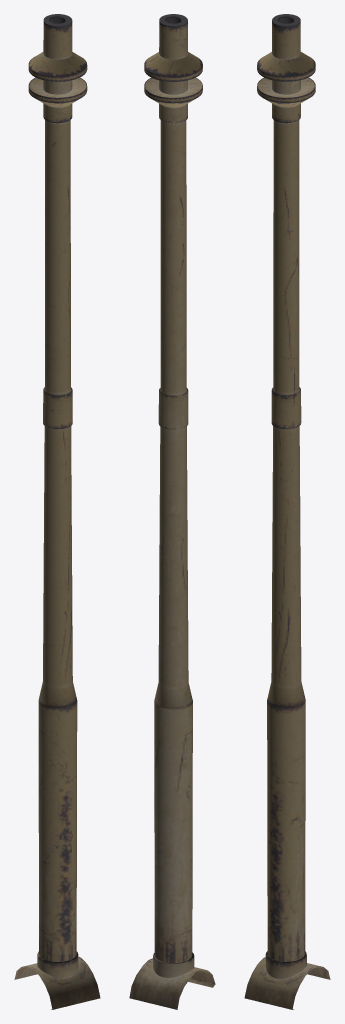
Rendered from Gun_02.glb.
3 renders of one model, left to right at view 1: azimuth 30°, elevation 25°; view 2: azimuth 150°, elevation 25°; view 3: azimuth 330°, elevation 25°, orthographic.
Parts seen in each view (by area): view 1: set_0_group_0; view 2: set_0_group_0; view 3: set_0_group_0.
Part boxes in pixels (x1,y1,x2,y2): set_0_group_0: [14, 14, 100, 1009]; set_0_group_0: [129, 14, 215, 1009]; set_0_group_0: [244, 14, 330, 1009].
Bounding box in the file's own units: 0.336 × 6.15 × 0.4366.
Materials: 1 (1 with a texture image).
